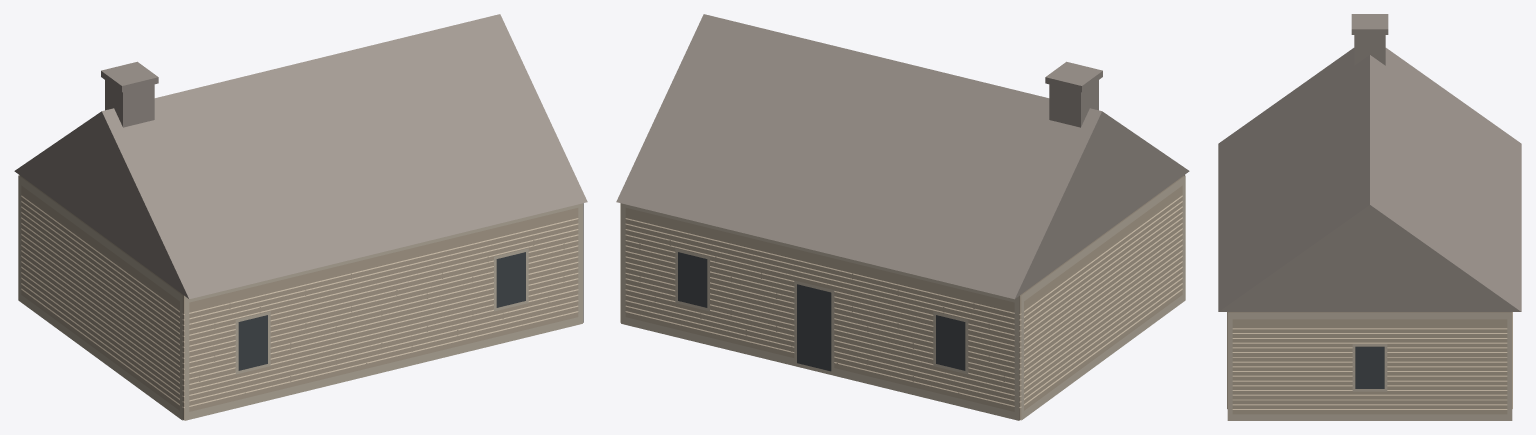
The model's file is st_marys_church__frame_1833.glb.
3 renders of one model, left to right at view 1: azimuth 30°, elevation 25°; view 2: azimuth 150°, elevation 25°; view 3: azimuth 270°, elevation 25°, orthographic. The views are drawn at different scales.
Visible parts, largest first — view 1: st_marys_church__frame_1833; view 2: st_marys_church__frame_1833; view 3: st_marys_church__frame_1833.
Boxes of the visible parts, box(x1,y1,x2,y2) form: st_marys_church__frame_1833: box(14, 14, 587, 420); st_marys_church__frame_1833: box(616, 14, 1189, 420); st_marys_church__frame_1833: box(1218, 14, 1521, 420).
Bounding box in the file's own units: 10.75 × 7.15 × 8.12.
